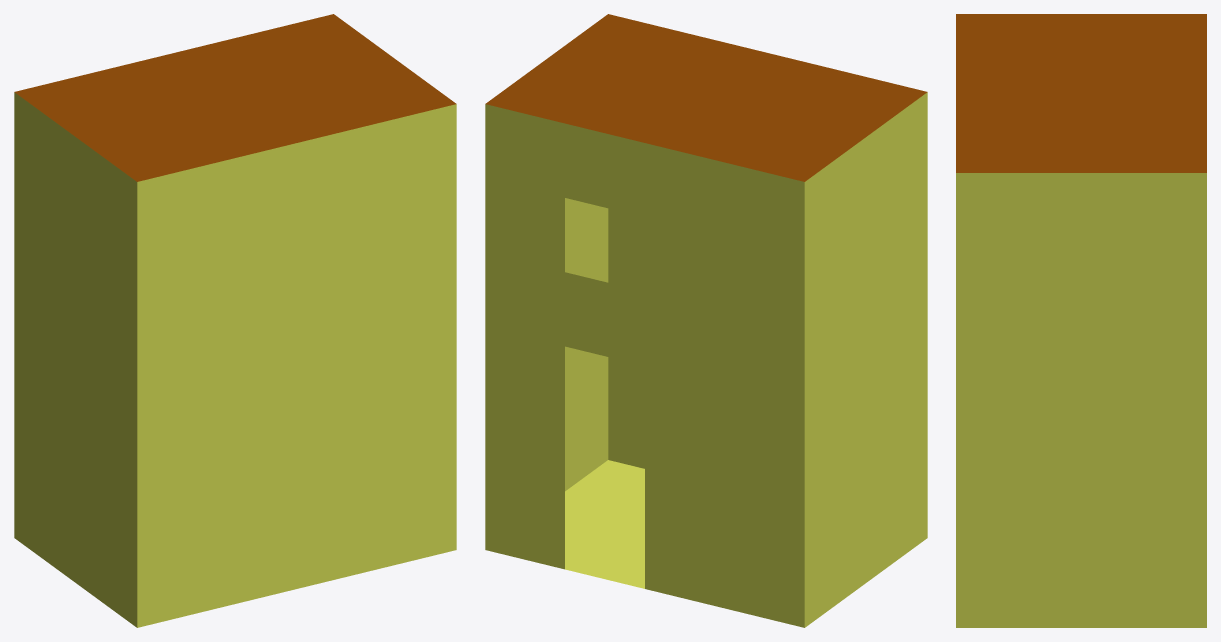
File: yellow2.gltf
3 views of the same model, side by side, from view 1: azimuth 30°, elevation 25°; view 2: azimuth 150°, elevation 25°; view 3: azimuth 270°, elevation 25° (orthographic). The views are drawn at different scales.
Visible parts, largest first — view 1: Cube; view 2: Cube; view 3: Cube.
Boxes of the visible parts, left/top/right/bottom form: Cube: left=14, top=14, right=456, bottom=627; Cube: left=485, top=14, right=927, bottom=627; Cube: left=956, top=14, right=1206, bottom=627.
Size of the model in its own units: 6 by 8 by 4.
